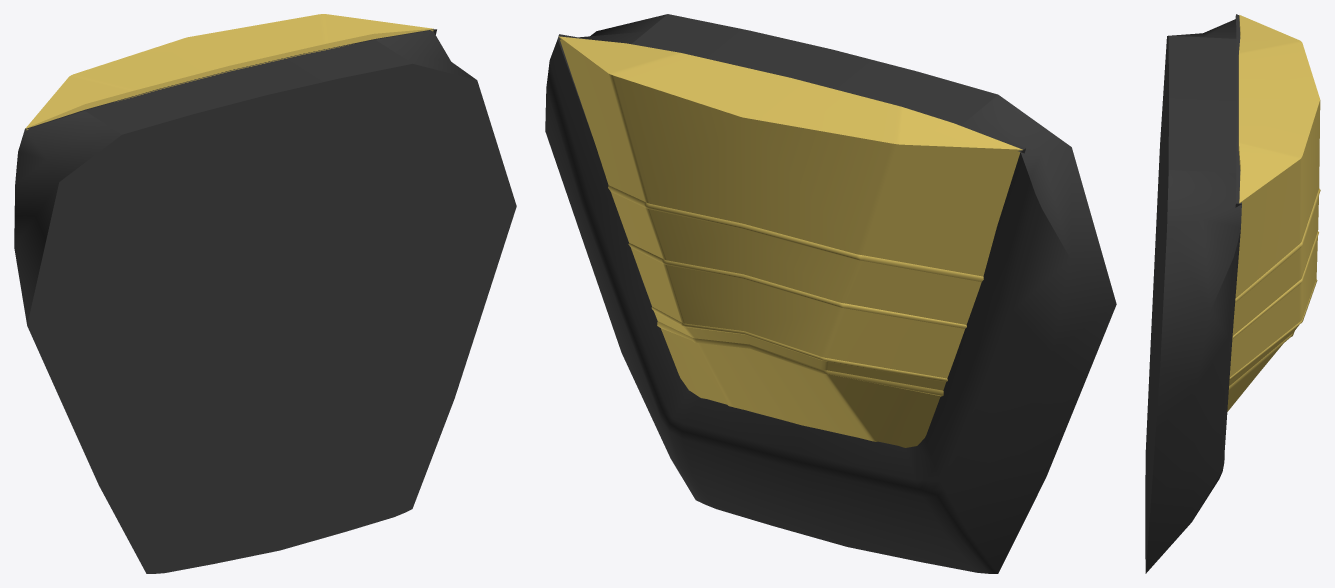
File: golden-handle.fbx
3 views of the same model, side by side, from view 1: azimuth 30°, elevation 25°; view 2: azimuth 150°, elevation 25°; view 3: azimuth 270°, elevation 25° (orthographic). The views are drawn at different scales.
Visible parts, largest first — view 1: polySurface1, armrest1; view 2: armrest1, polySurface1; view 3: polySurface1, armrest1.
Part boxes in pixels (x1,y1,x2,y2): polySurface1: (14, 29, 516, 573); armrest1: (25, 14, 433, 130); armrest1: (559, 36, 1022, 447); polySurface1: (545, 14, 1116, 573); polySurface1: (1145, 14, 1241, 573); armrest1: (1227, 15, 1320, 411).
Size of the model in its own units: 2 by 1.76 by 0.658.
